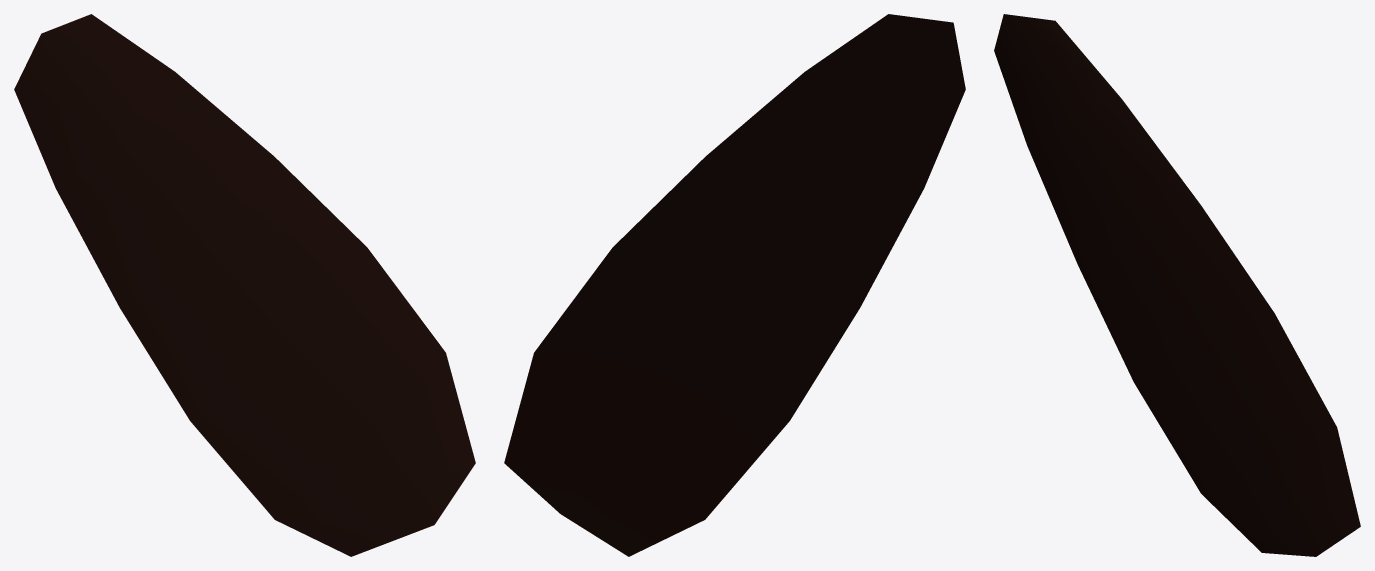
File: finch_feather_flight_secondary_012.obj
3 views of the same model, side by side, from view 1: azimuth 30°, elevation 25°; view 2: azimuth 150°, elevation 25°; view 3: azimuth 330°, elevation 25° (orthographic). The views are drawn at different scales.
Parts seen in each view (by area): view 1: feather_flight_secondary_012; view 2: feather_flight_secondary_012; view 3: feather_flight_secondary_012.
Boxes of the visible parts, x1,y1,x2,y2 form: feather_flight_secondary_012: (14, 14, 475, 556); feather_flight_secondary_012: (504, 14, 965, 556); feather_flight_secondary_012: (994, 14, 1360, 556).
Bounding box in the file's own units: 0.012 × 0.015 × 0.000337.
